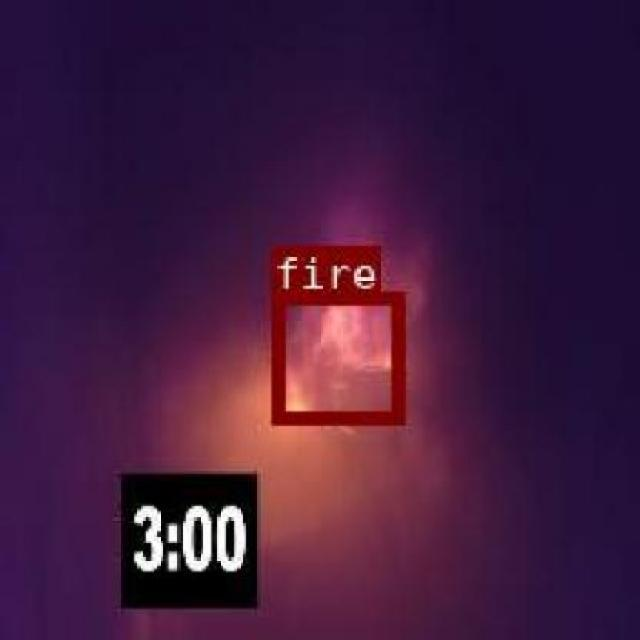Fire: (269, 288, 402, 422)
